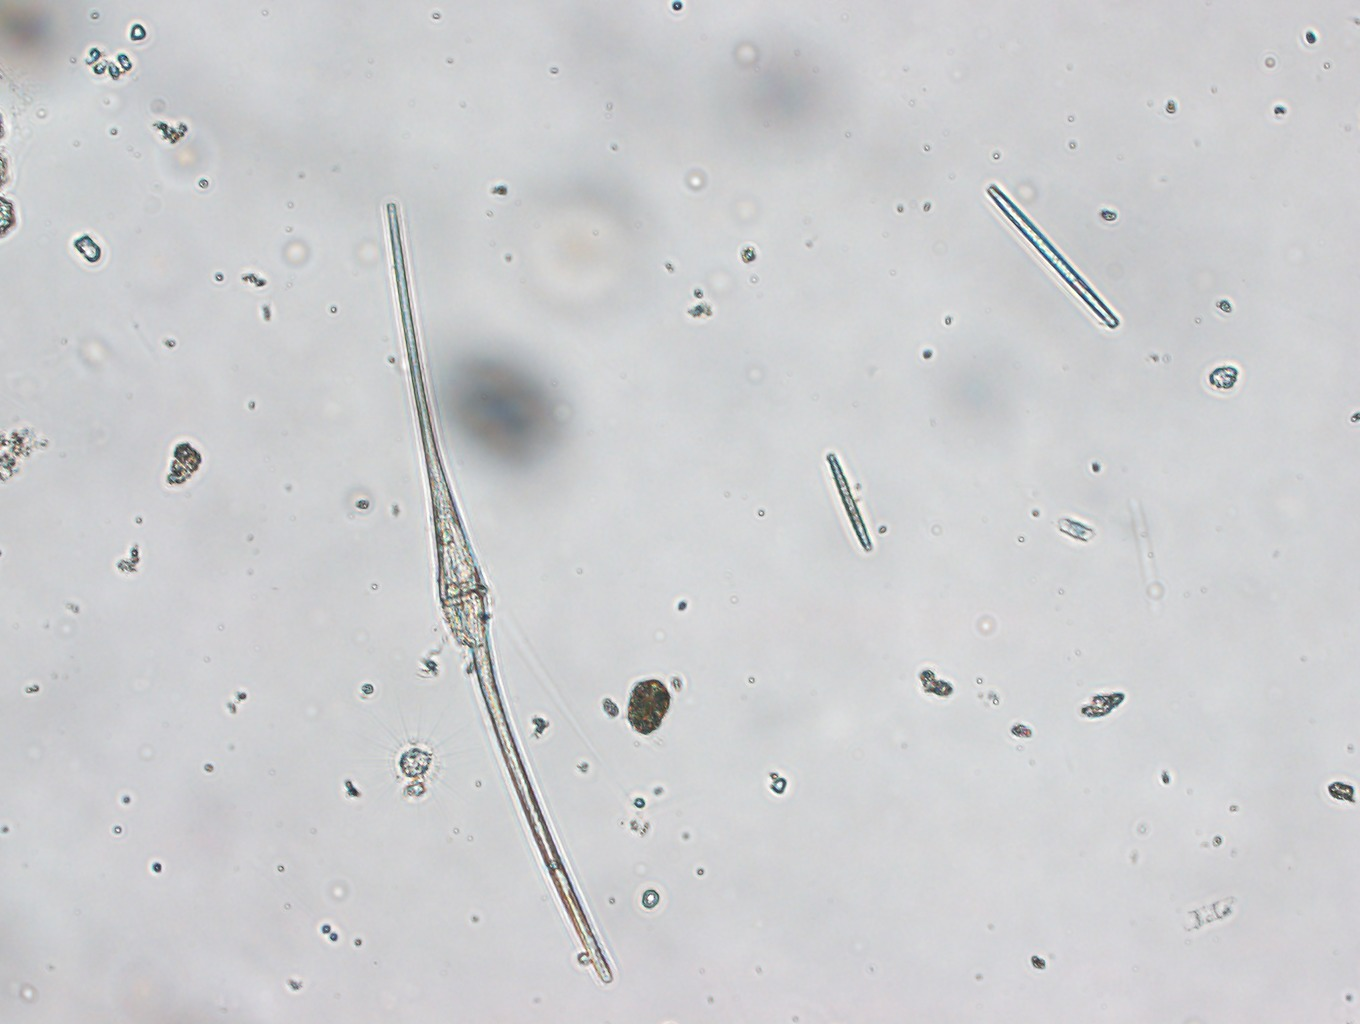ceratium fusus: (372, 199, 638, 990)
